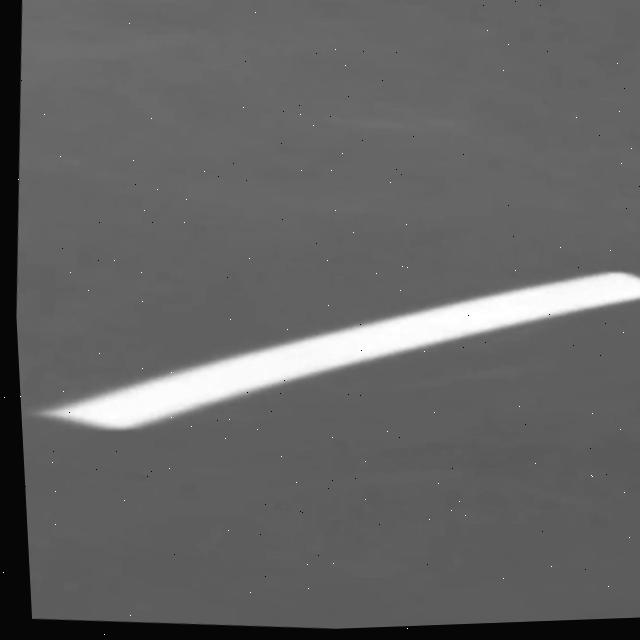center: (37, 271, 640, 429)
